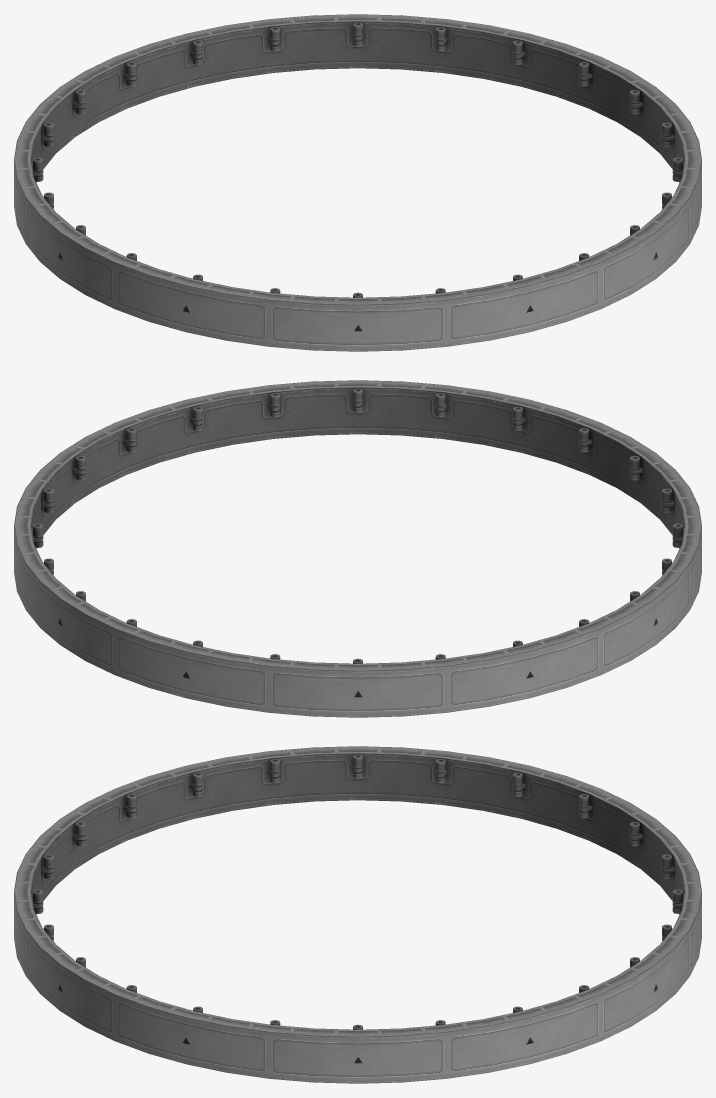
File: castor_decoupler_s4_1.obj
3 renders of one model, top to bottom at view 1: azimuth 30°, elevation 25°; view 2: azimuth 150°, elevation 25°; view 3: azimuth 270°, elevation 25°, orthographic.
Visible parts, largest first — view 1: mesh2; view 2: mesh2; view 3: mesh2.
Boxes of the visible parts, x1,y1,x2,y2 form: mesh2: (14,14,701,351); mesh2: (14,380,701,717); mesh2: (14,746,701,1083).
Bounding box in the file's own units: 5 × 0.375 × 5.
1 material, 1 textured.
